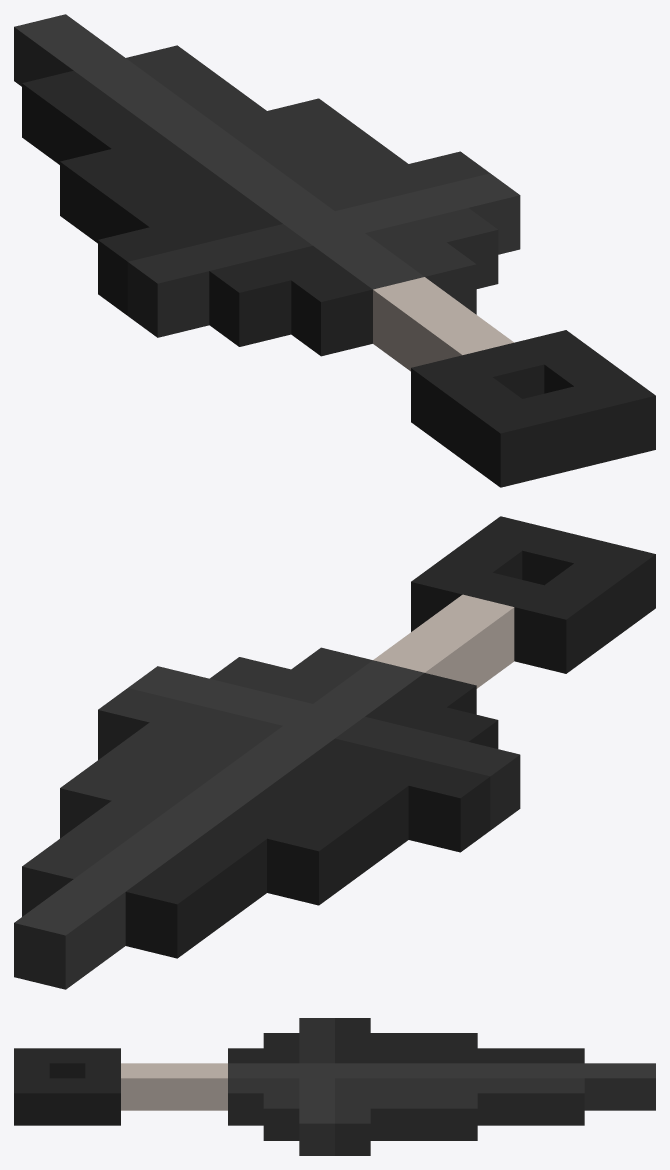
The model's file is throw_type_weapon_1.obj.
The picture shows the model from 3 angles, top to bottom: view 1: azimuth 30°, elevation 25°; view 2: azimuth 150°, elevation 25°; view 3: azimuth 270°, elevation 25°; orthographic projection. The views are drawn at different scales.
Bounding box in the file's own units: 0.7 × 0.1 × 1.8.
Materials: 1 (1 with a texture image).
